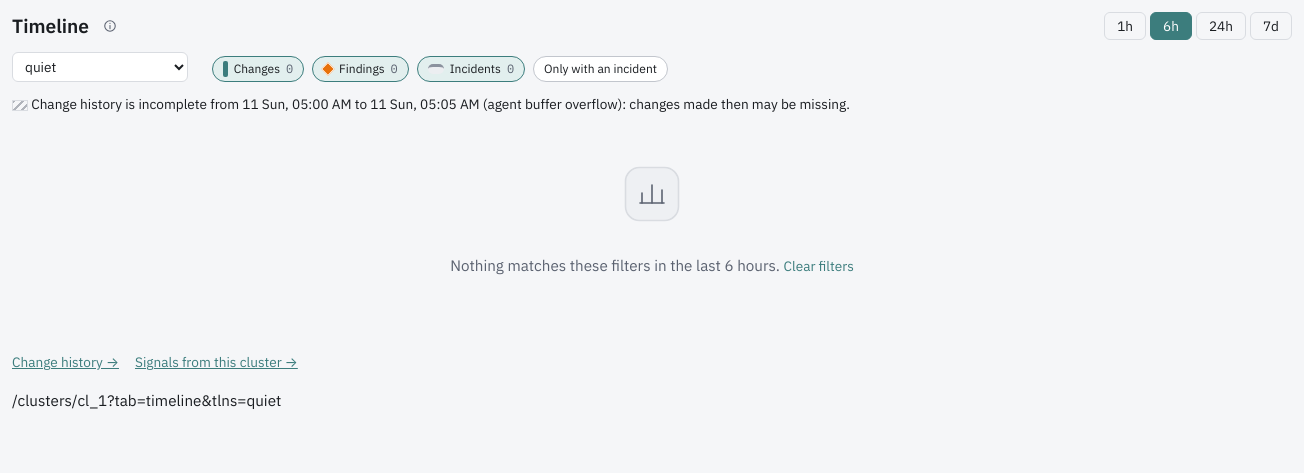
ClusterTimeline › offers to clear filters when they matched nothing
This screenshot has width=1304, height=473.
Check: the text "Nothing matches these filters" is shown, box [450,255,696,275]
Click the button "Clear filters": click(819, 266) [784,257,854,275]
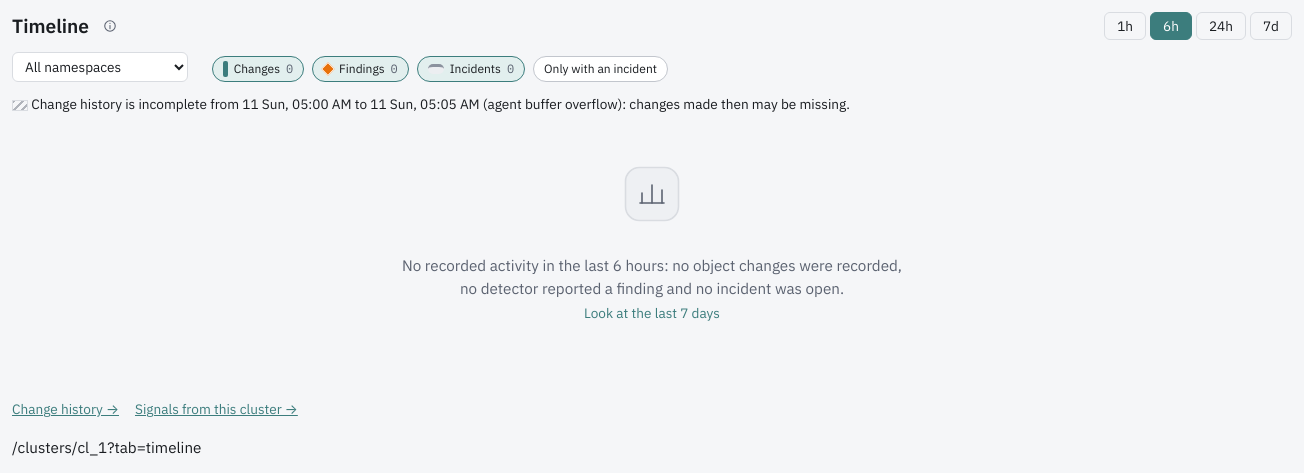
Check: the text with test id "where" no longer shows "tlns"
